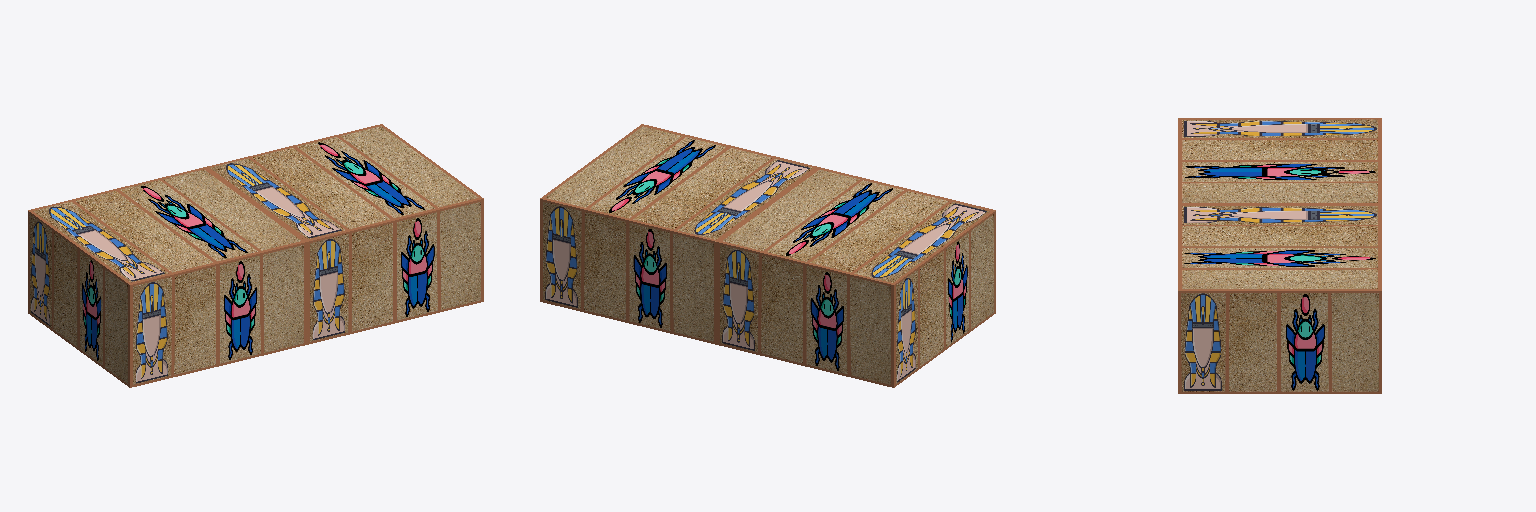
3 renders of one model, left to right at view 1: azimuth 30°, elevation 25°; view 2: azimuth 150°, elevation 25°; view 3: azimuth 270°, elevation 25°, orthographic.
Visible parts, largest first — view 1: Box141; view 2: Box141; view 3: Box141.
Boxes of the visible parts, x1,y1,x2,y2 form: Box141: [28, 124, 483, 387]; Box141: [540, 124, 995, 387]; Box141: [1178, 118, 1381, 393].
Size of the model in its own units: 9 by 2.5 by 4.5.
1 materials, 1 textured.